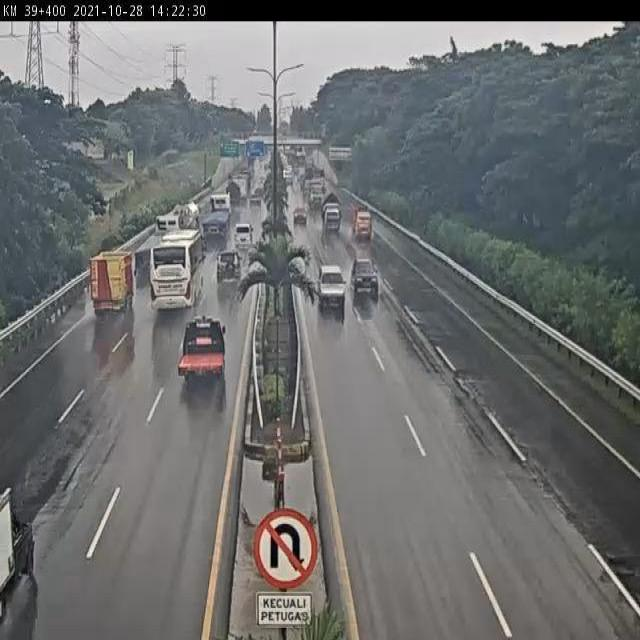bus-l-: (149, 228, 207, 311)
car: (316, 263, 347, 312), (234, 223, 255, 248)
truck-l-: (124, 217, 177, 272), (197, 191, 232, 245)
truck-m-: (166, 197, 202, 243)
truck-s-: (177, 314, 227, 382), (89, 251, 137, 316), (350, 199, 373, 240), (322, 193, 344, 232)
